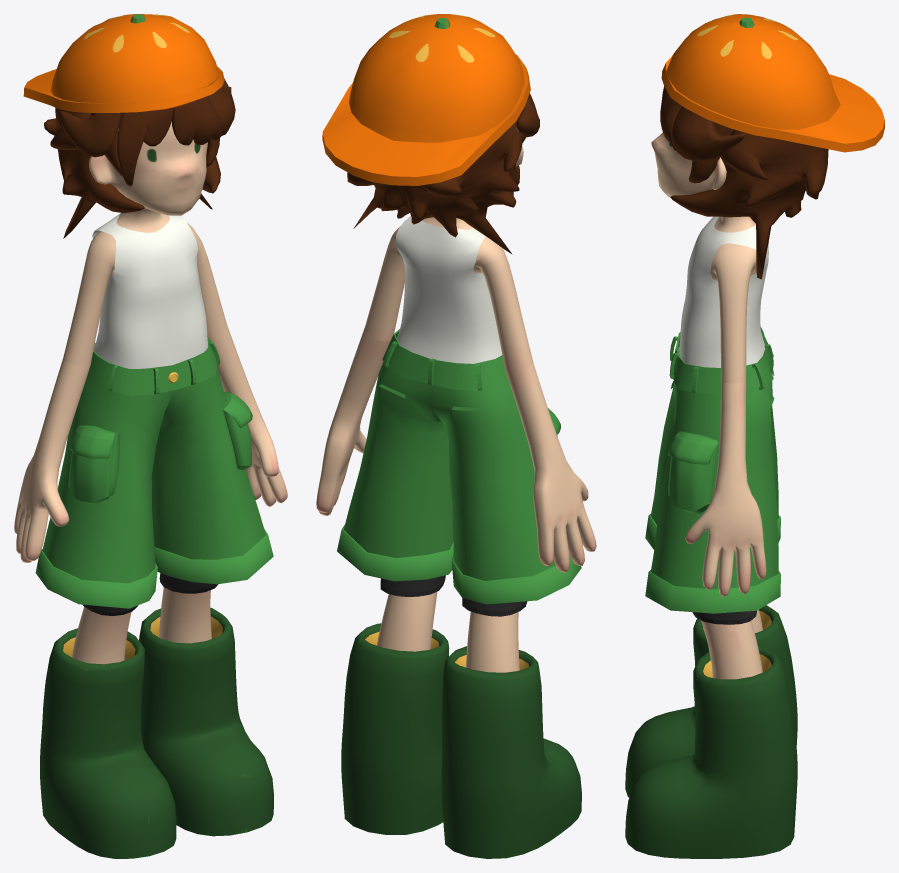
File: zester_default.glb
3 views of the same model, side by side, from view 1: azimuth 30°, elevation 25°; view 2: azimuth 150°, elevation 25°; view 3: azimuth 270°, elevation 25° (orthographic). The views are drawn at different scales.
Visible parts, largest first — view 1: pants.001, boots.001, body.001, accessories.001, shirt.001, hair.001, underpants.001; view 2: boots.001, pants.001, body.001, accessories.001, shirt.001, hair.001, underpants.001; view 3: boots.001, pants.001, accessories.001, body.001, hair.001, shirt.001, underpants.001.
Part boxes in pixels (x1,y1,x2,y2): pants.001: (35,337,273,608); boots.001: (40,607,273,858); body.001: (14,121,287,664); accessories.001: (23,14,224,112); shirt.001: (92,213,208,368); hair.001: (44,79,235,238); underpants.001: (83,573,218,615); boots.001: (341,623,581,858); pants.001: (337,329,581,604); body.001: (316,145,596,672); accessories.001: (322,14,530,185); shirt.001: (396,216,502,363); hair.001: (347,93,539,254); underpants.001: (380,575,527,616); boots.001: (625,605,797,858); pants.001: (645,327,780,613); accessories.001: (661,14,884,152); body.001: (651,132,766,679); hair.001: (660,86,828,279); shirt.001: (679,216,768,367); underpants.001: (692,610,756,624).
Size of the model in its own units: 0.8874 by 2.56 by 0.7572.
Materials: 7 (7 with a texture image).
